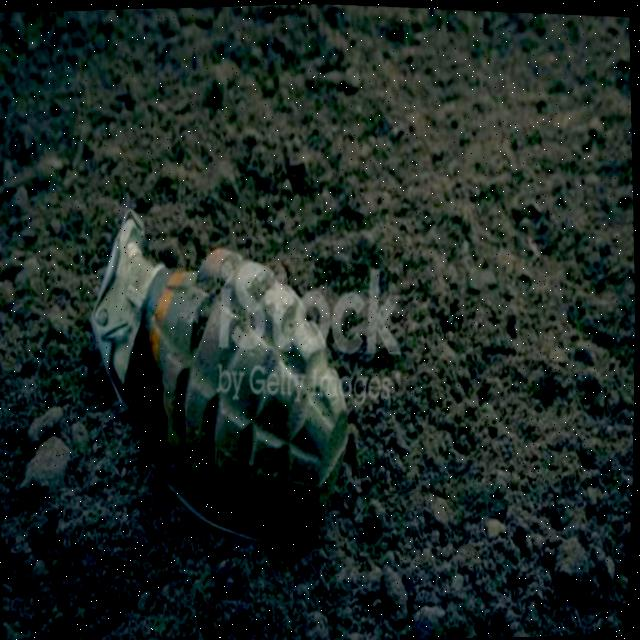grenade: (67, 201, 374, 558)
